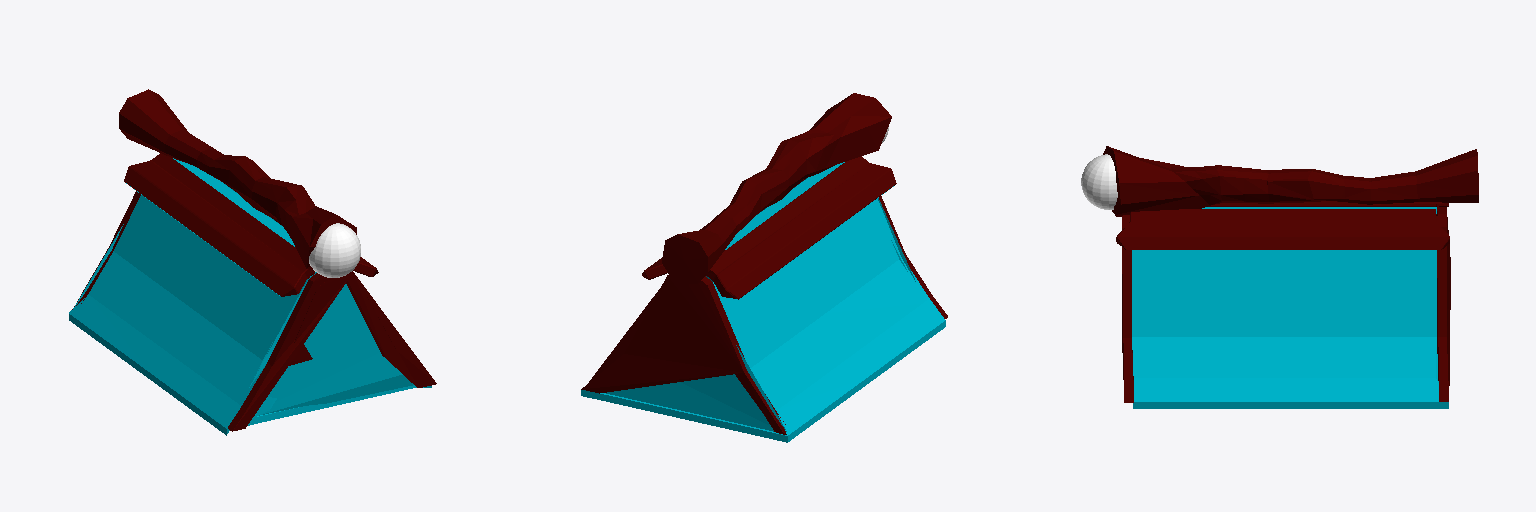
File: Tente.obj
3 views of the same model, side by side, from view 1: azimuth 30°, elevation 25°; view 2: azimuth 150°, elevation 25°; view 3: azimuth 270°, elevation 25° (orthographic).
Parts seen in each view (by area): view 1: pCube1 polySurface1 polySurface4 polySurface6, pCube1 polySurface3 polySurface1, pCylinder1, pCube1 polySurface1 polySurface4 polySurface7, pSphere1, pCube1 polySurface1 polySurface5 polySurface4; view 2: pCube1 polySurface1 polySurface4 polySurface6, pCube1 polySurface1 polySurface5 polySurface4, pCylinder1, pCube1 polySurface3 polySurface1; view 3: pCube1 polySurface1 polySurface4 polySurface6, pCylinder1, polySurface2 pCube1, pCube1 polySurface1 polySurface5 polySurface4, pCube1 polySurface1 polySurface4 polySurface7, pSphere1, pCube1 polySurface3 polySurface1.
Boxes of the visible parts, box(x1,y1,x2,y2) form: pCube1 polySurface1 polySurface4 polySurface6: box(69, 158, 431, 435); pCube1 polySurface3 polySurface1: box(124, 153, 314, 296); pCylinder1: box(119, 89, 356, 270); pCube1 polySurface1 polySurface4 polySurface7: box(228, 271, 436, 431); pSphere1: box(309, 223, 360, 277); pCube1 polySurface1 polySurface5 polySurface4: box(72, 191, 140, 309); pCube1 polySurface1 polySurface4 polySurface6: box(581, 162, 945, 442); pCube1 polySurface1 polySurface5 polySurface4: box(581, 275, 786, 434); pCylinder1: box(662, 93, 891, 284); pCube1 polySurface3 polySurface1: box(706, 156, 896, 299); pCube1 polySurface1 polySurface4 polySurface6: box(1132, 207, 1448, 408); pCylinder1: box(1103, 146, 1478, 216); polySurface2 pCube1: box(1116, 209, 1449, 249); pCube1 polySurface1 polySurface5 polySurface4: box(1436, 207, 1450, 401); pCube1 polySurface1 polySurface4 polySurface7: box(1122, 215, 1133, 402); pSphere1: box(1081, 154, 1117, 209); pCube1 polySurface3 polySurface1: box(1208, 201, 1448, 206).
Bounding box in the file's own units: 4.68 × 4.46 × 7.78.